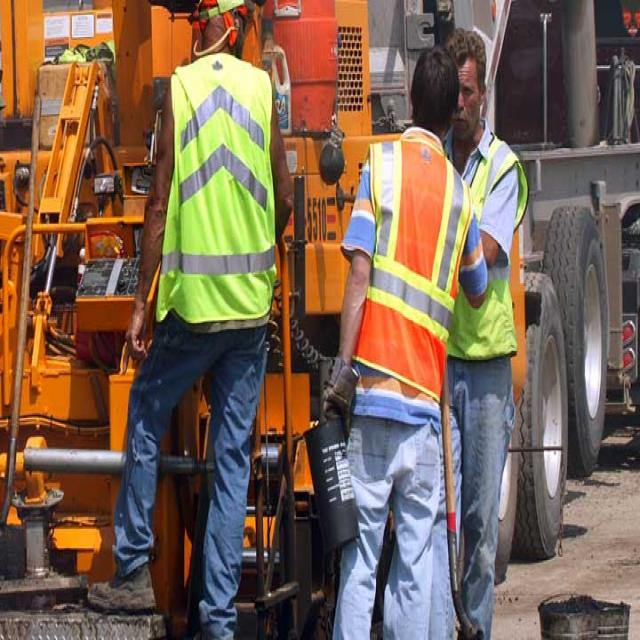Reflective-Jacket: (149, 49, 279, 338), (349, 135, 473, 407), (445, 132, 530, 367)
